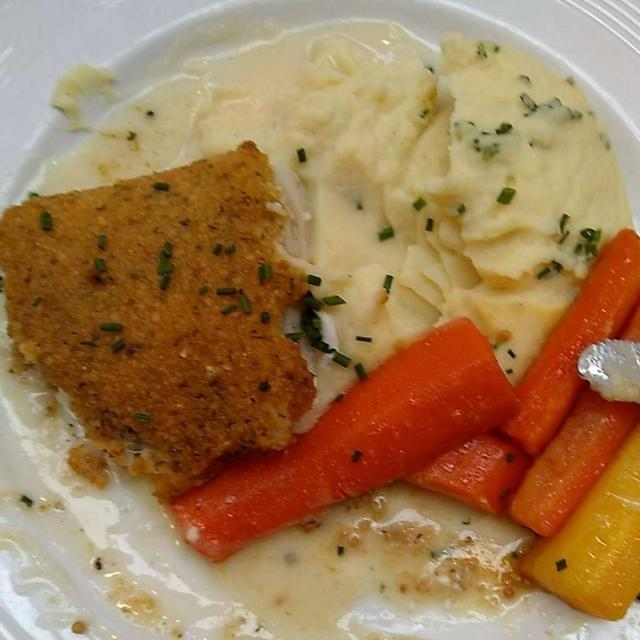carrot: (162, 227, 636, 606)
fish: (6, 136, 346, 499)
mashed-potatoes: (23, 21, 633, 386)
sauce: (17, 390, 517, 639)
